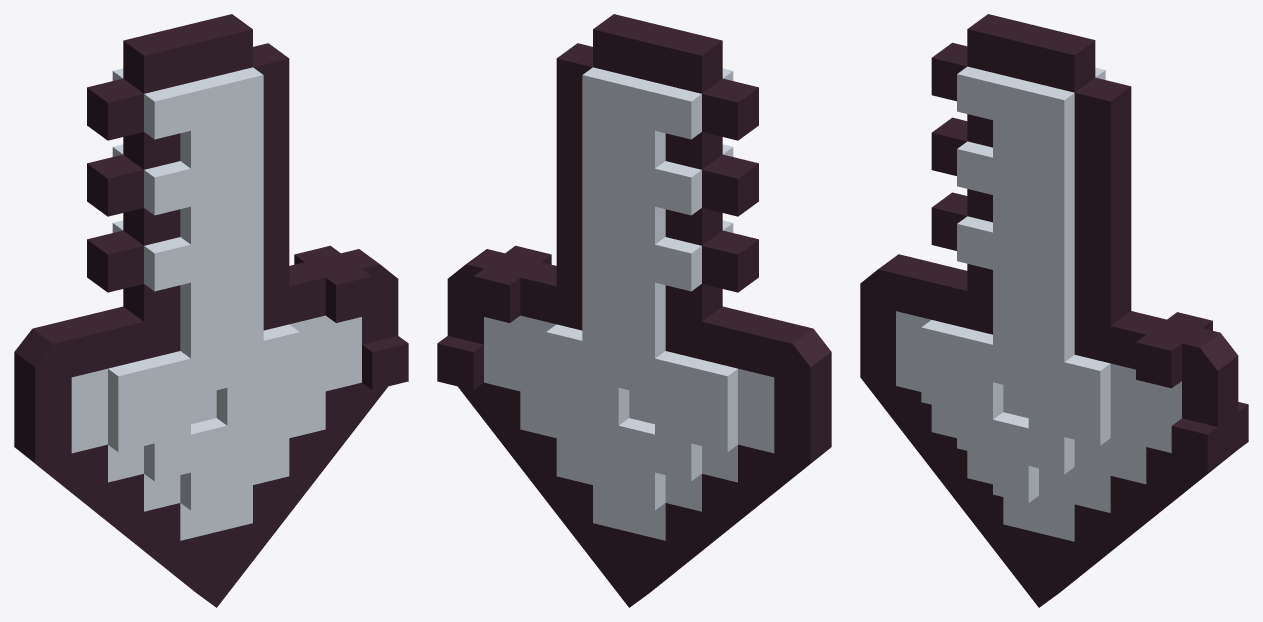
File: Triangle Key.fbx
The picture shows the model from 3 angles, left to right: view 1: azimuth 30°, elevation 25°; view 2: azimuth 150°, elevation 25°; view 3: azimuth 330°, elevation 25°; orthographic projection.
Visible parts, largest first — view 1: generated; view 2: generated; view 3: generated.
Boxes of the visible parts, x1=… form: generated: x1=14, y1=14, x2=408, y2=607; generated: x1=437, y1=14, x2=831, y2=607; generated: x1=860, y1=14, x2=1248, y2=607.
Bounding box in the file's own units: 400 × 600 × 80.
